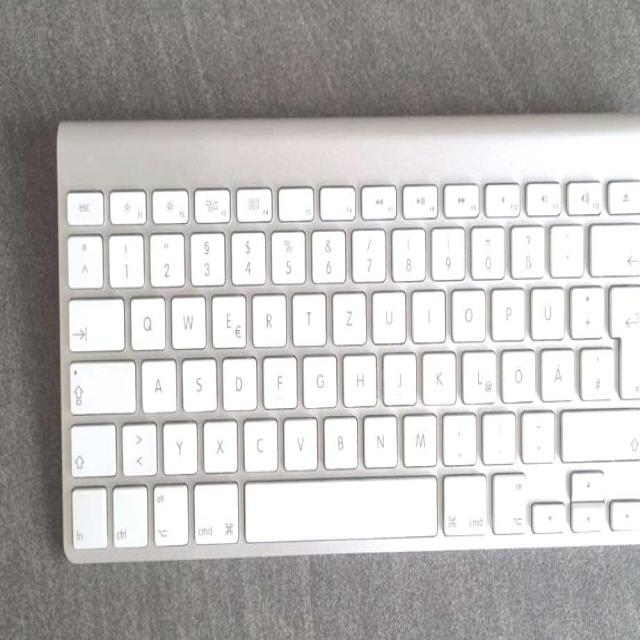0: (468, 221, 504, 276)
1: (107, 230, 143, 284)
2: (147, 228, 183, 285)
3: (187, 228, 223, 283)
4: (229, 226, 264, 282)
5: (269, 226, 305, 281)
6: (309, 224, 345, 280)
7: (349, 224, 385, 280)
8: (389, 223, 424, 279)
9: (428, 222, 464, 278)
a: (139, 355, 175, 409)
accent: (548, 219, 582, 273)
ae: (538, 343, 573, 398)
alt-left: (150, 480, 187, 544)
altgr-right: (490, 468, 526, 533)
b: (320, 411, 356, 466)
c: (240, 414, 276, 469)
caret: (65, 230, 101, 284)
comma: (440, 408, 475, 462)
d: (219, 352, 255, 408)
del: (586, 218, 640, 273)
e: (209, 289, 245, 346)
enter: (606, 279, 640, 397)
f: (260, 350, 296, 406)
g: (300, 350, 335, 405)
h: (340, 349, 375, 404)
hash: (578, 342, 612, 397)
i: (409, 284, 444, 339)
j: (381, 347, 415, 402)
k: (420, 347, 455, 401)
keyboard: (55, 110, 640, 563)
l: (459, 346, 495, 401)
less: (119, 418, 155, 473)
m: (400, 408, 435, 463)
minus: (518, 406, 553, 459)
n: (361, 409, 397, 465)
o: (448, 283, 484, 339)
oe: (498, 345, 534, 399)
p: (488, 282, 523, 338)
plus: (567, 280, 602, 334)
point: (479, 407, 514, 460)
q: (127, 292, 164, 347)
r: (249, 289, 285, 344)
s: (179, 354, 215, 409)
shift-left: (66, 418, 114, 474)
shift-lock: (66, 355, 134, 410)
shift-right: (557, 402, 640, 459)
space: (242, 472, 436, 540)
ss: (508, 221, 543, 275)
strg-left: (109, 481, 147, 547)
t: (290, 288, 325, 342)
tab: (65, 292, 122, 348)
u: (369, 286, 405, 341)
ue: (527, 281, 563, 337)
v: (281, 413, 317, 467)
w: (169, 290, 205, 346)
x: (201, 415, 237, 469)
y: (160, 417, 196, 472)
z: (329, 287, 365, 342)
